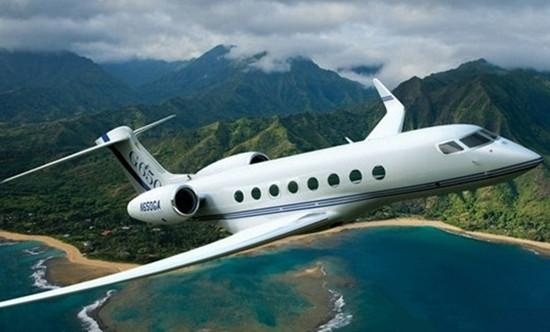airplane: (49, 75, 550, 246)
